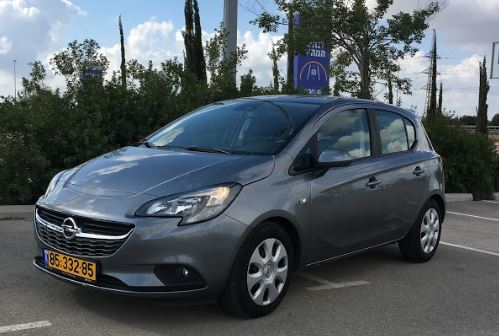licence: (42, 246, 100, 285)
